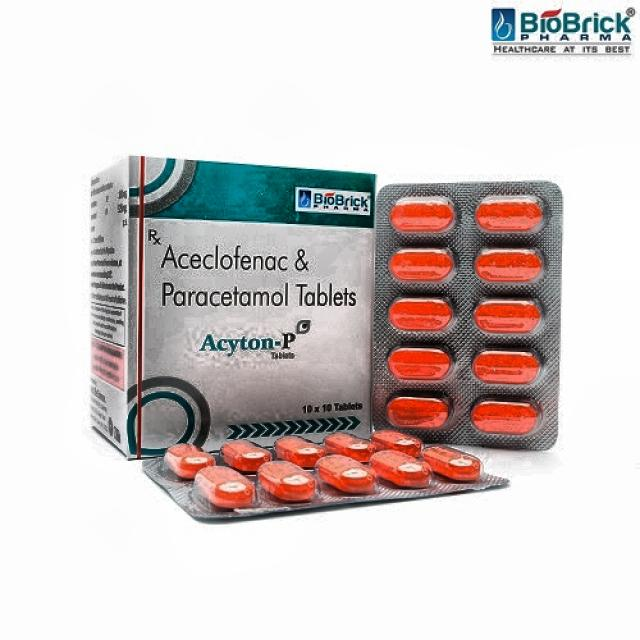Paracetamol: (142, 218, 374, 332)
